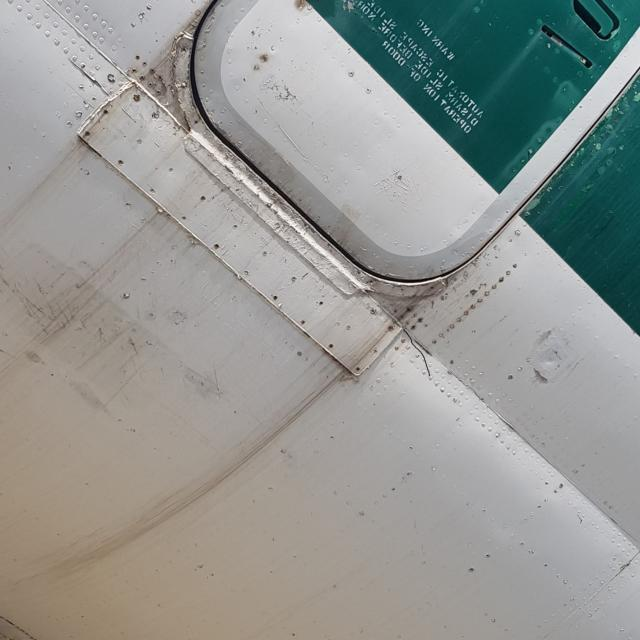crack: (392, 327, 443, 382)
